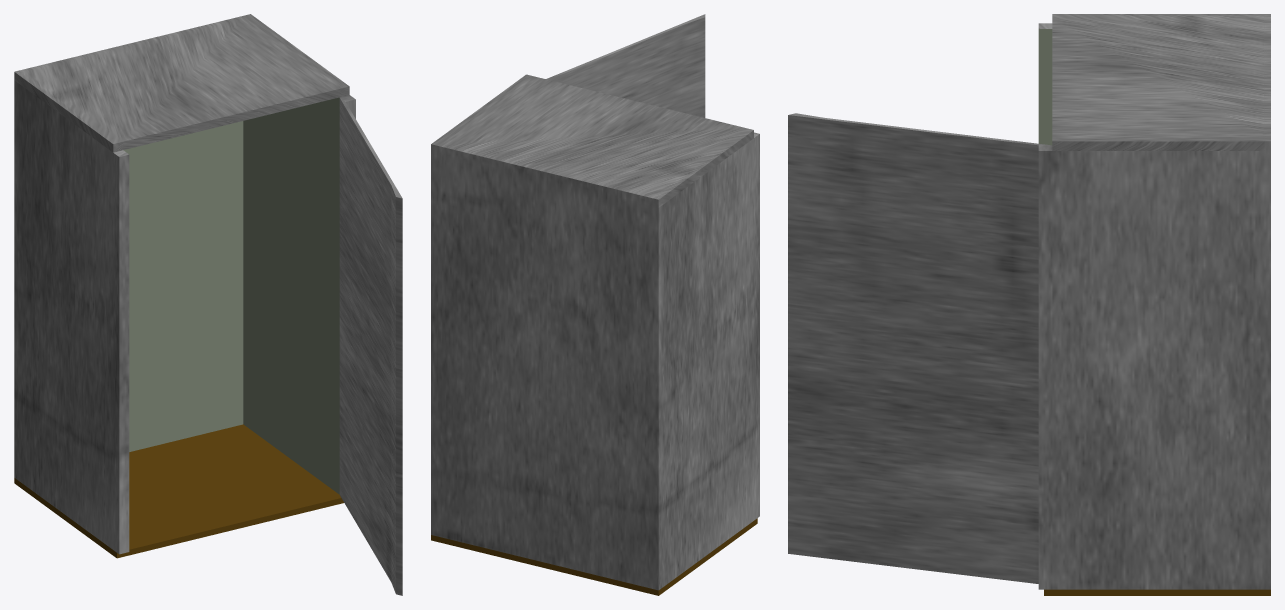
File: cupboard.fbx
3 views of the same model, side by side, from view 1: azimuth 30°, elevation 25°; view 2: azimuth 150°, elevation 25°; view 3: azimuth 270°, elevation 25° (orthographic). The views are drawn at different scales.
Parts seen in each view (by area): view 1: pCube2; view 2: pCube2; view 3: pCube2.
Part boxes in pixels (x1,y1,x2,y2): pCube2: [14, 14, 402, 595]; pCube2: [431, 14, 759, 595]; pCube2: [788, 14, 1270, 595].
Bounding box in the file's own units: 2.34 × 3.89 × 3.74.
